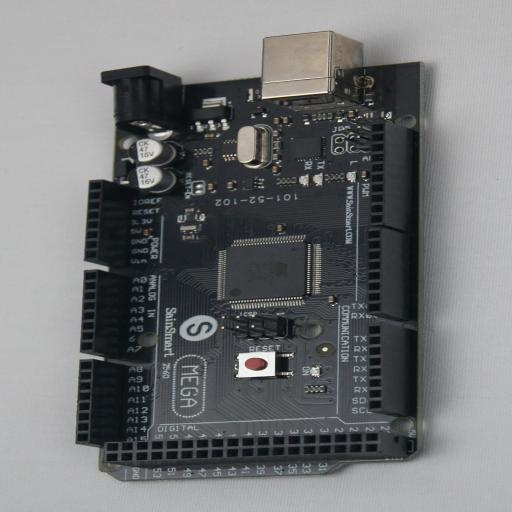Arduino Mega 2560 -Black-: (76, 35, 436, 481)
